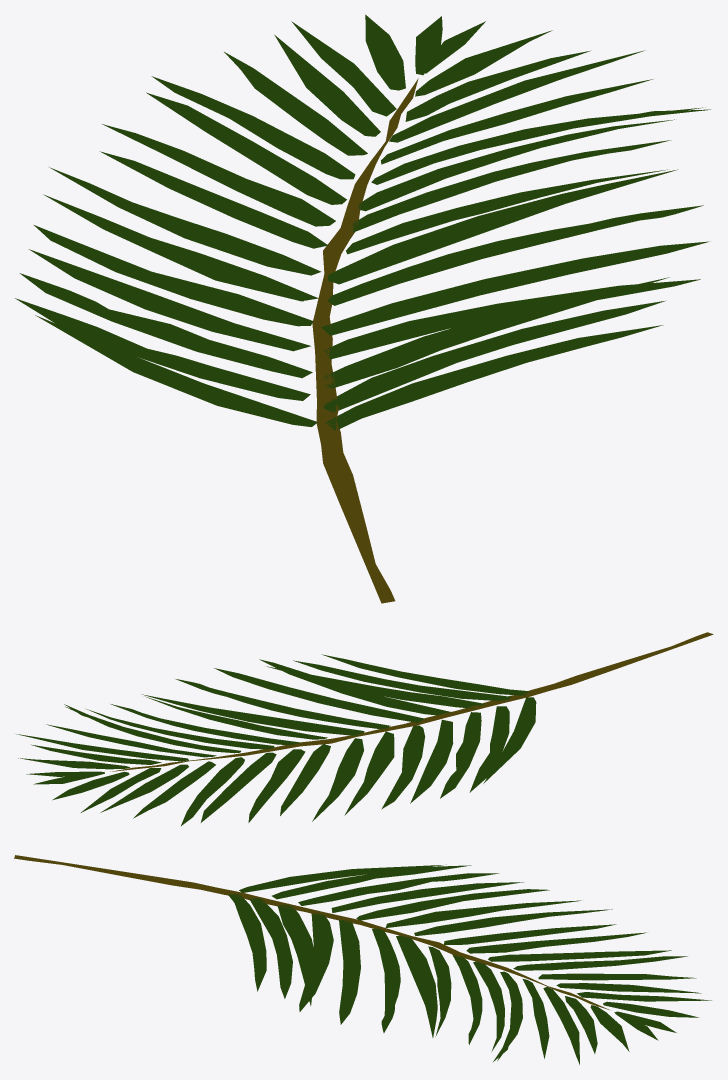
Rendered from palm leaves for procedural trees.fbx.
The picture shows the model from 3 angles, top to bottom: view 1: azimuth 30°, elevation 25°; view 2: azimuth 150°, elevation 25°; view 3: azimuth 270°, elevation 25°; orthographic projection. The views are drawn at different scales.
Parts seen in each view (by area): view 1: polySurface36; view 2: polySurface36; view 3: polySurface36.
Boxes of the visible parts, left/top/right/bottom form: polySurface36: left=15, top=14, right=710, bottom=603; polySurface36: left=16, top=632, right=713, bottom=825; polySurface36: left=14, top=855, right=711, bottom=1064.
Size of the model in its own units: 21.81 by 0.0114 by 30.58.
